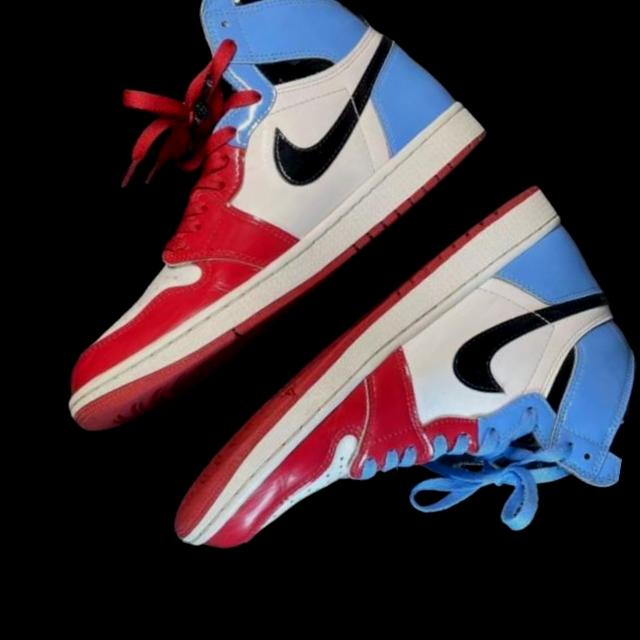nike_original_jordan: (0, 0, 530, 538), (134, 120, 640, 640)
